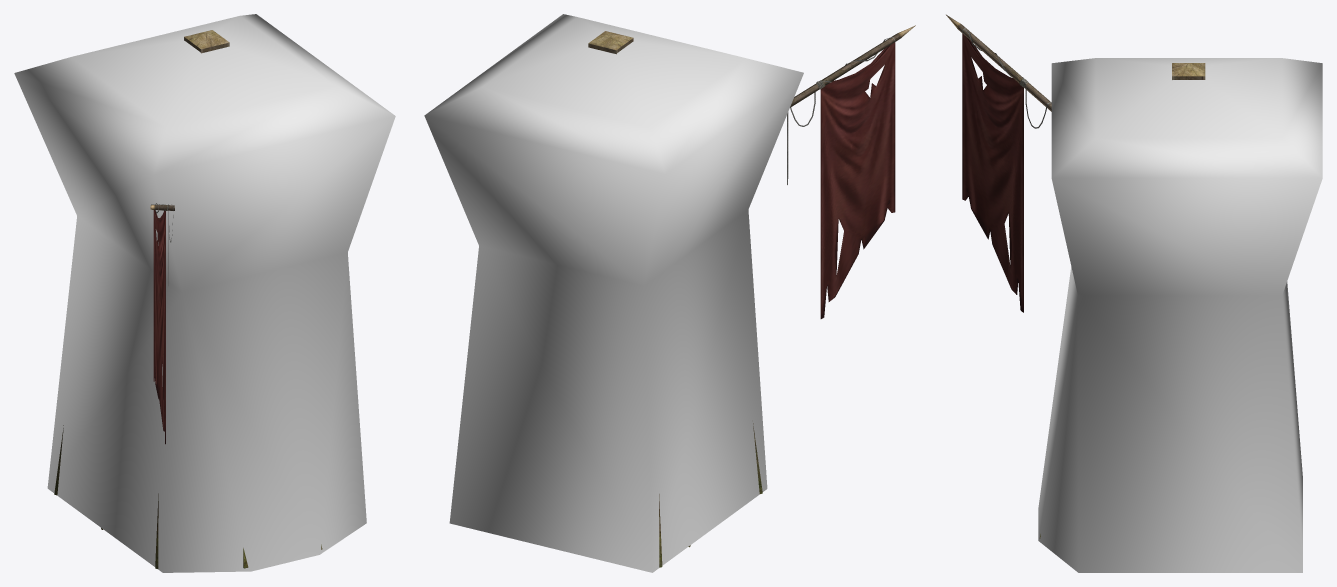
Rendered from Scene_Build_XuanWuShan_GangShao_1.FBX.
3 renders of one model, left to right at view 1: azimuth 30°, elevation 25°; view 2: azimuth 150°, elevation 25°; view 3: azimuth 270°, elevation 25°, orthographic. The views are drawn at different scales.
Parts seen in each view (by area): view 1: Scene_Build_XuanWuShan_GangShao_1_Xzm, Scene_Build_XuanWuShan_GangShao_1b; view 2: Scene_Build_XuanWuShan_GangShao_1_Xzm, Scene_Build_XuanWuShan_GangShao_1b; view 3: Scene_Build_XuanWuShan_GangShao_1_Xzm, Scene_Build_XuanWuShan_GangShao_1b.
Part boxes in pixels (bbox=[...]): Scene_Build_XuanWuShan_GangShao_1_Xzm: bbox=[14, 14, 395, 572]; Scene_Build_XuanWuShan_GangShao_1b: bbox=[54, 30, 322, 568]; Scene_Build_XuanWuShan_GangShao_1_Xzm: bbox=[424, 14, 803, 572]; Scene_Build_XuanWuShan_GangShao_1b: bbox=[588, 25, 915, 567]; Scene_Build_XuanWuShan_GangShao_1_Xzm: bbox=[1038, 58, 1322, 572]; Scene_Build_XuanWuShan_GangShao_1b: bbox=[946, 14, 1205, 538].
Bounding box in the file's own units: 600 × 923 × 672.
